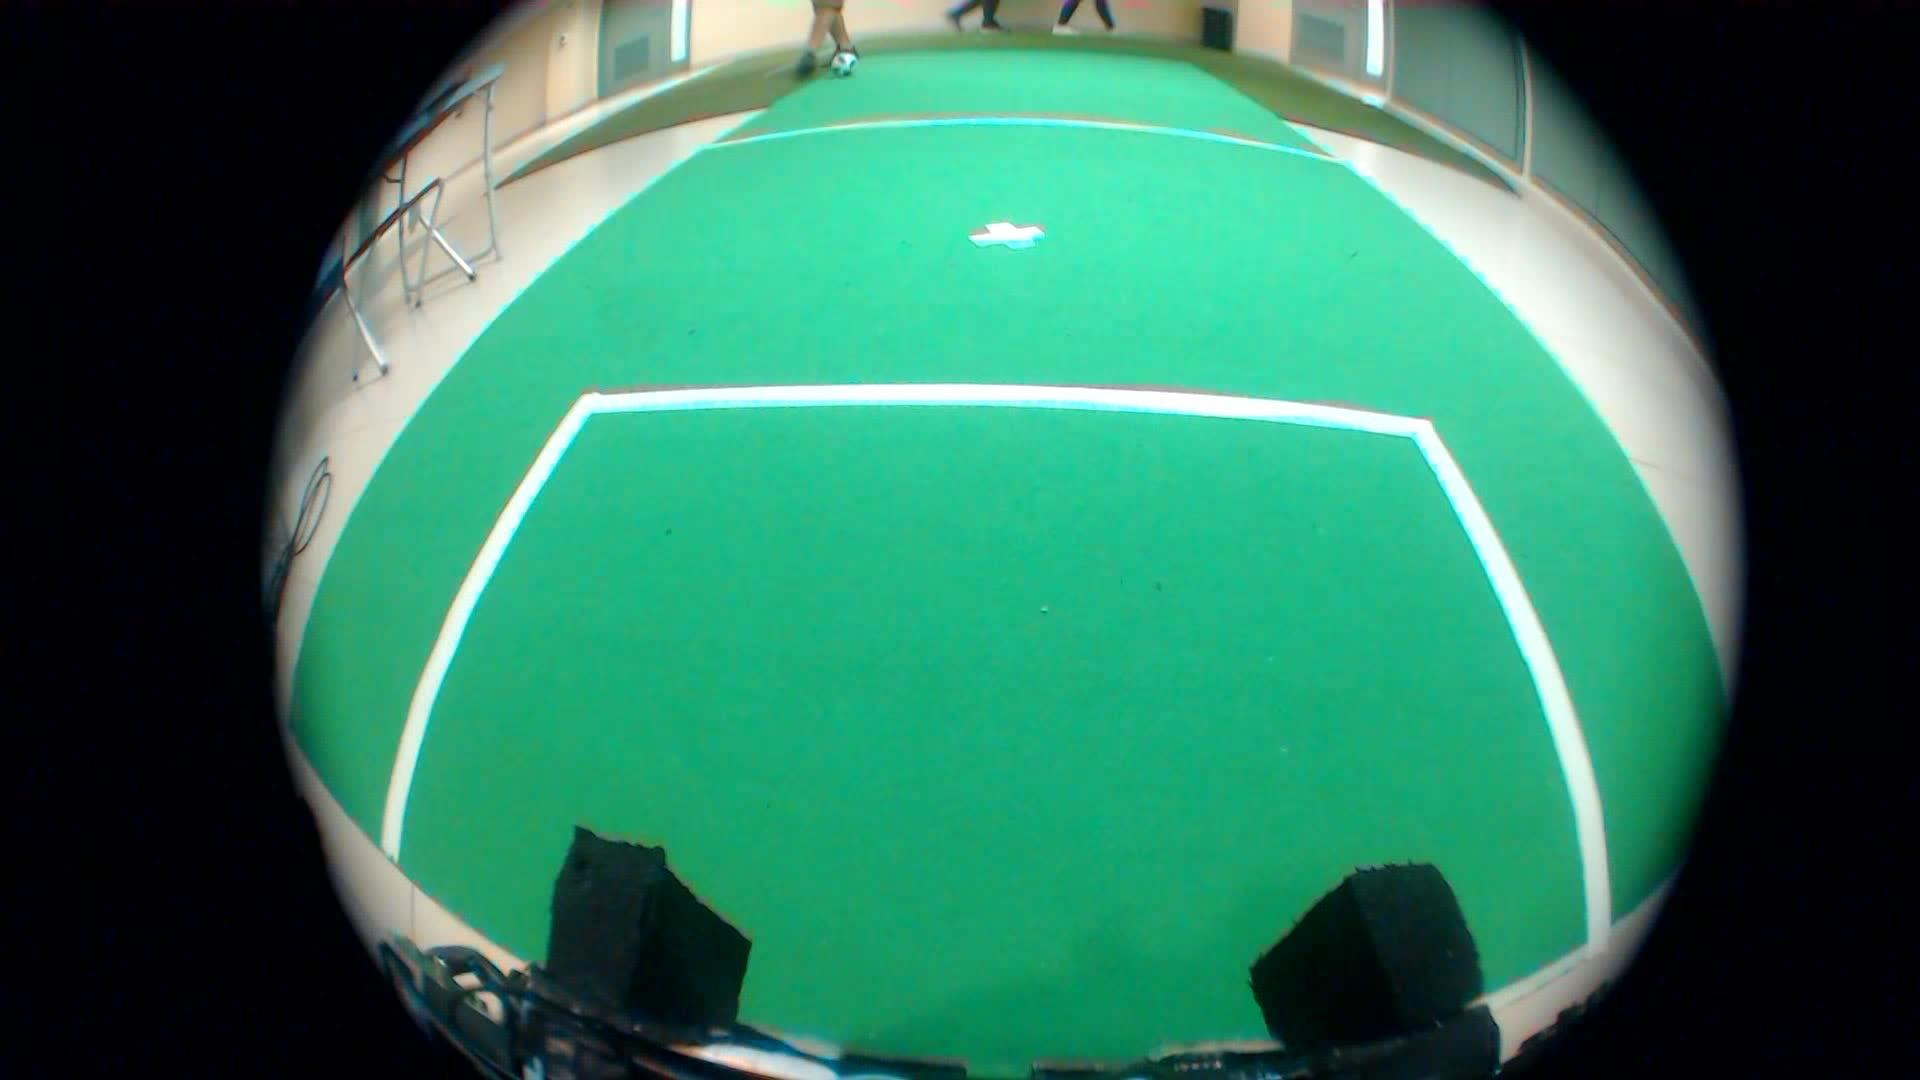ball: (825, 42, 860, 82)
